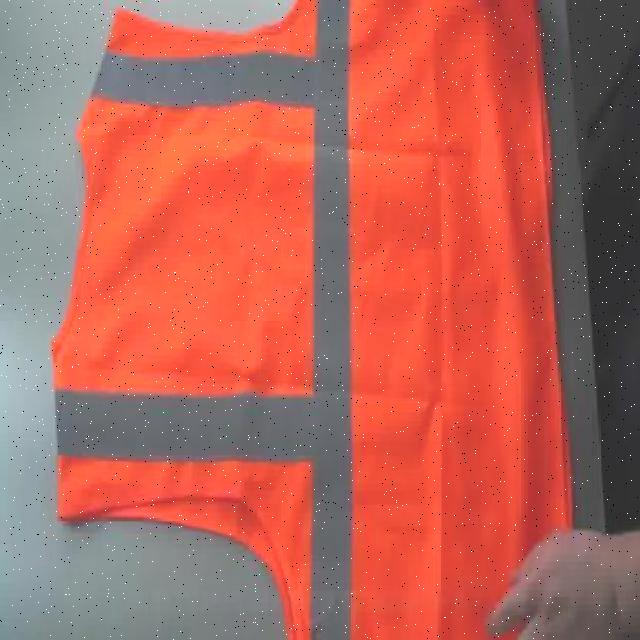Mask: (44, 0, 573, 638)
